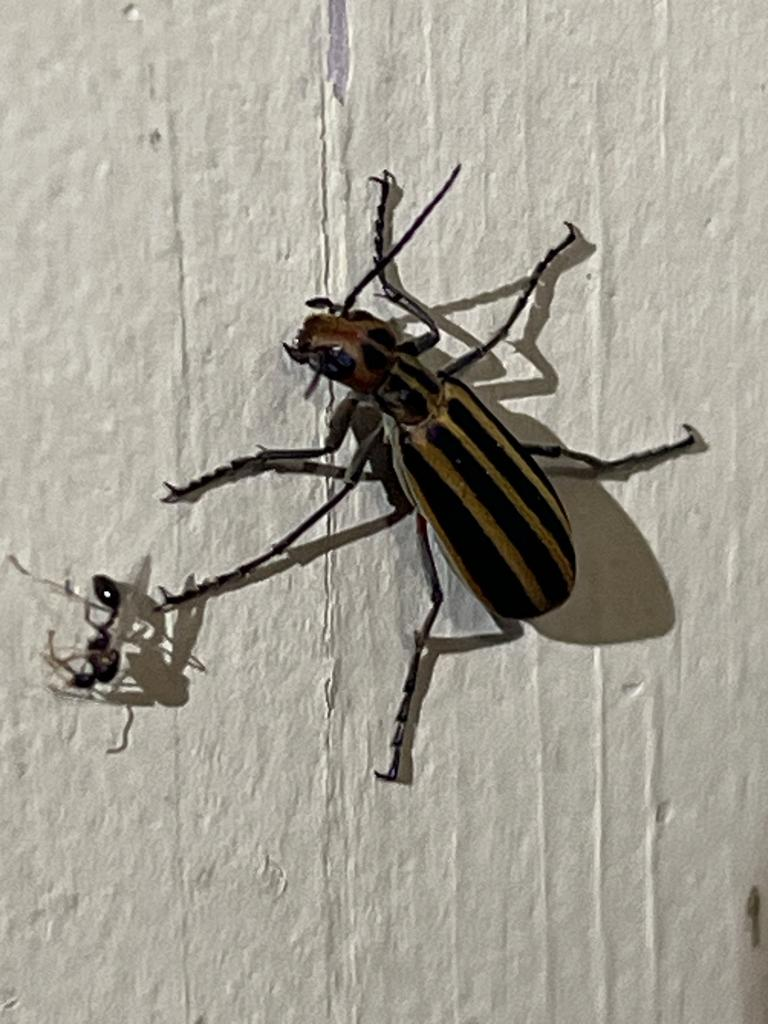blister_beetle: (95, 83, 768, 861)
